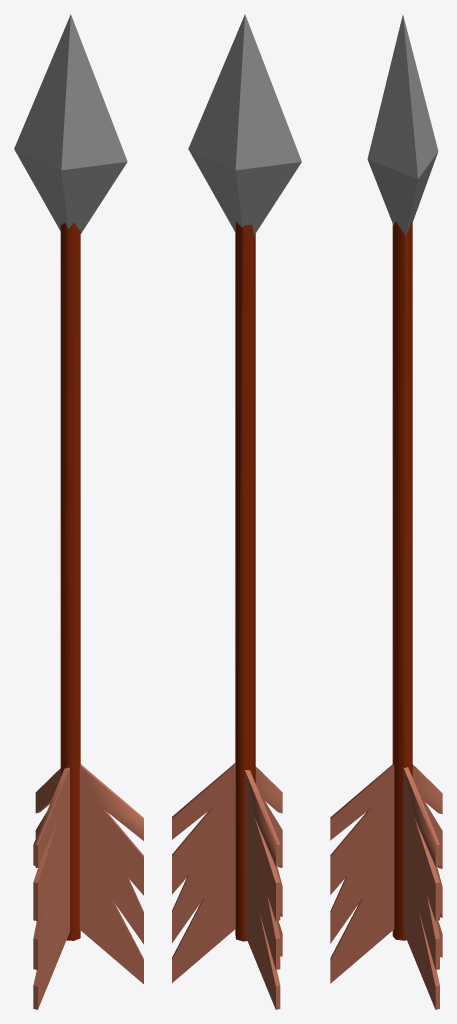
File: arrow.FBX
3 views of the same model, side by side, from view 1: azimuth 30°, elevation 25°; view 2: azimuth 210°, elevation 25°; view 3: azimuth 330°, elevation 25° (orthographic).
Parts seen in each view (by area): view 1: Pyramid002; view 2: Pyramid002; view 3: Pyramid002.
Boxes of the visible parts, x1,y1,x2,y2 form: Pyramid002: (14, 14, 143, 1009); Pyramid002: (172, 14, 301, 1009); Pyramid002: (330, 15, 442, 1009).
Size of the model in its own units: 12.23 by 103 by 10.77.
